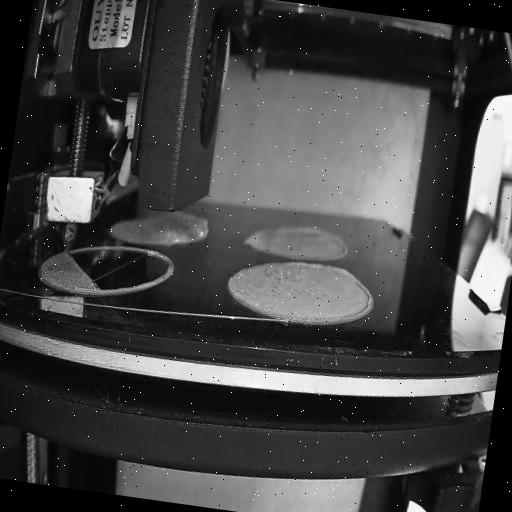over_extrusion: (351, 276, 378, 324)
